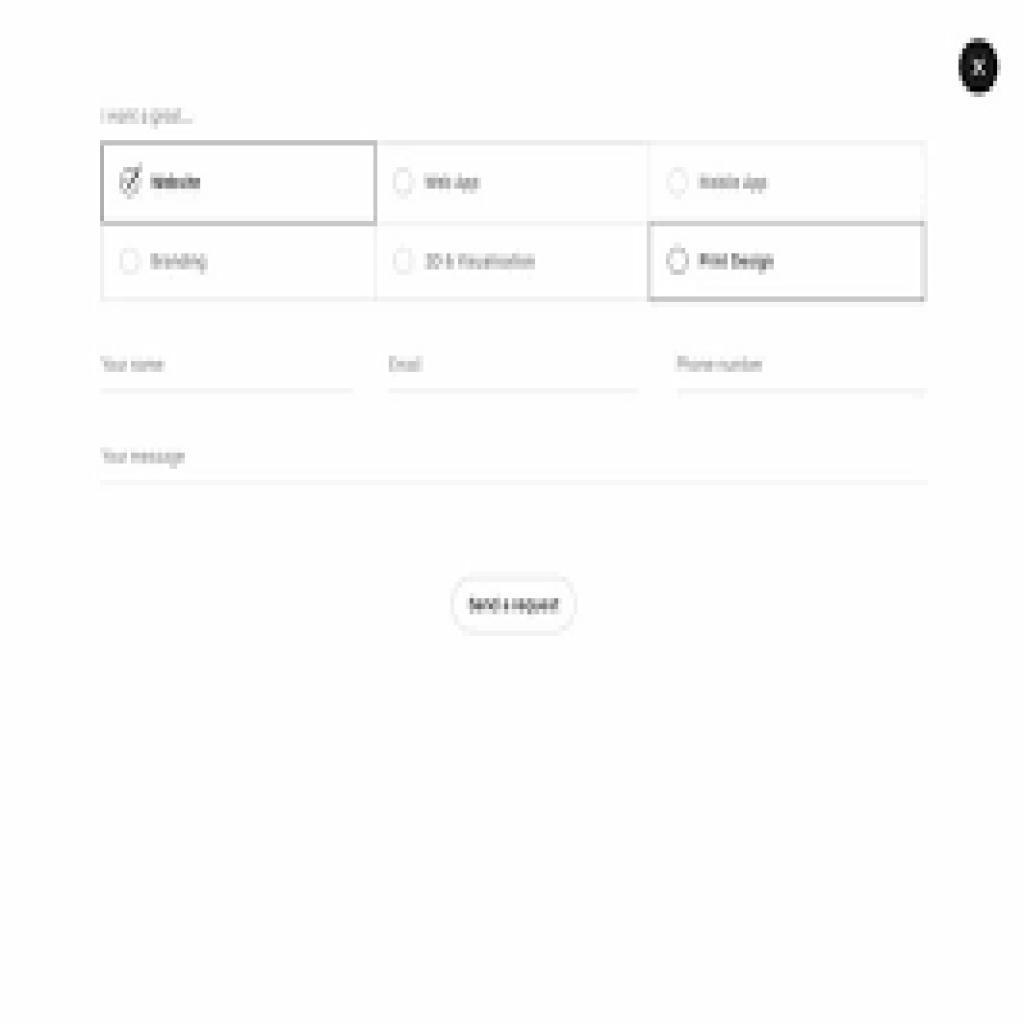button: (453, 576, 578, 638)
icon: (958, 38, 1004, 98)
radio: (117, 162, 147, 202), (391, 164, 418, 205), (664, 166, 693, 203), (666, 242, 691, 279), (394, 247, 418, 280), (119, 248, 145, 277)
